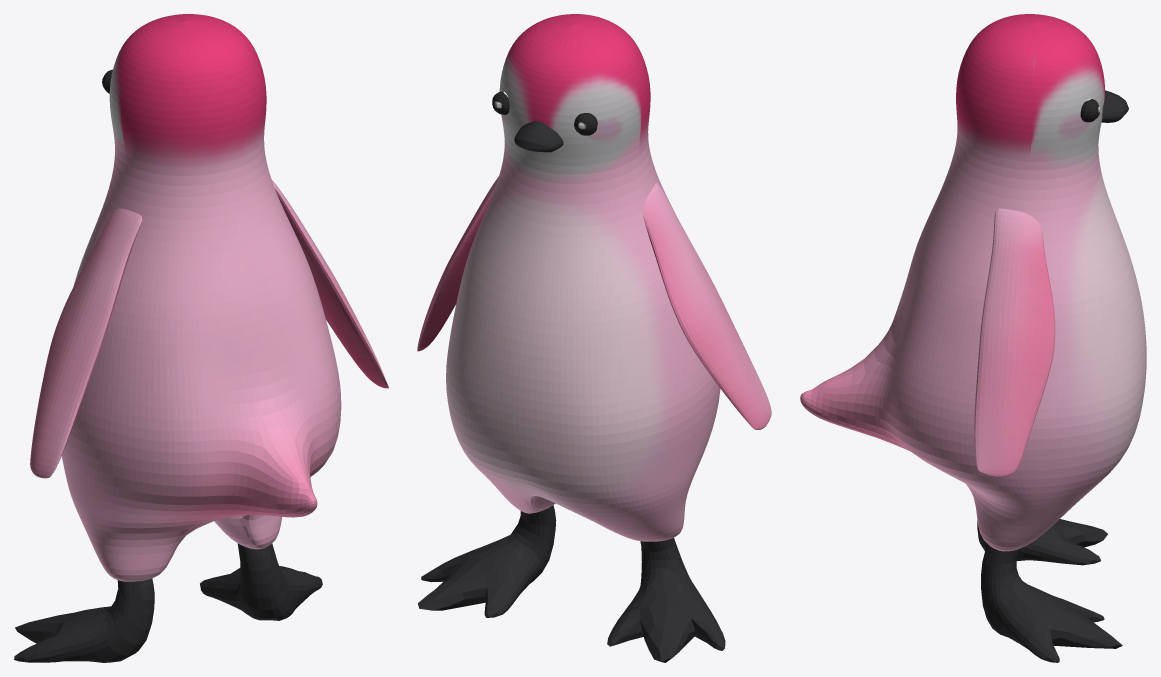
Rendered from Pen_r.glb.
The picture shows the model from 3 angles, left to right: view 1: azimuth 30°, elevation 25°; view 2: azimuth 150°, elevation 25°; view 3: azimuth 270°, elevation 25°; orthographic projection. The views are drawn at different scales.
Parts seen in each view (by area): view 1: back_sample_mesh.003; view 2: back_sample_mesh.003; view 3: back_sample_mesh.003.
Part boxes in pixels (x1=…): back_sample_mesh.003: x1=14, y1=14, x2=388, y2=662; back_sample_mesh.003: x1=417, y1=14, x2=771, y2=662; back_sample_mesh.003: x1=800, y1=14, x2=1146, y2=662.
Bounding box in the file's own units: 4.3 × 7.1 × 3.87.
1 material, 1 textured.
